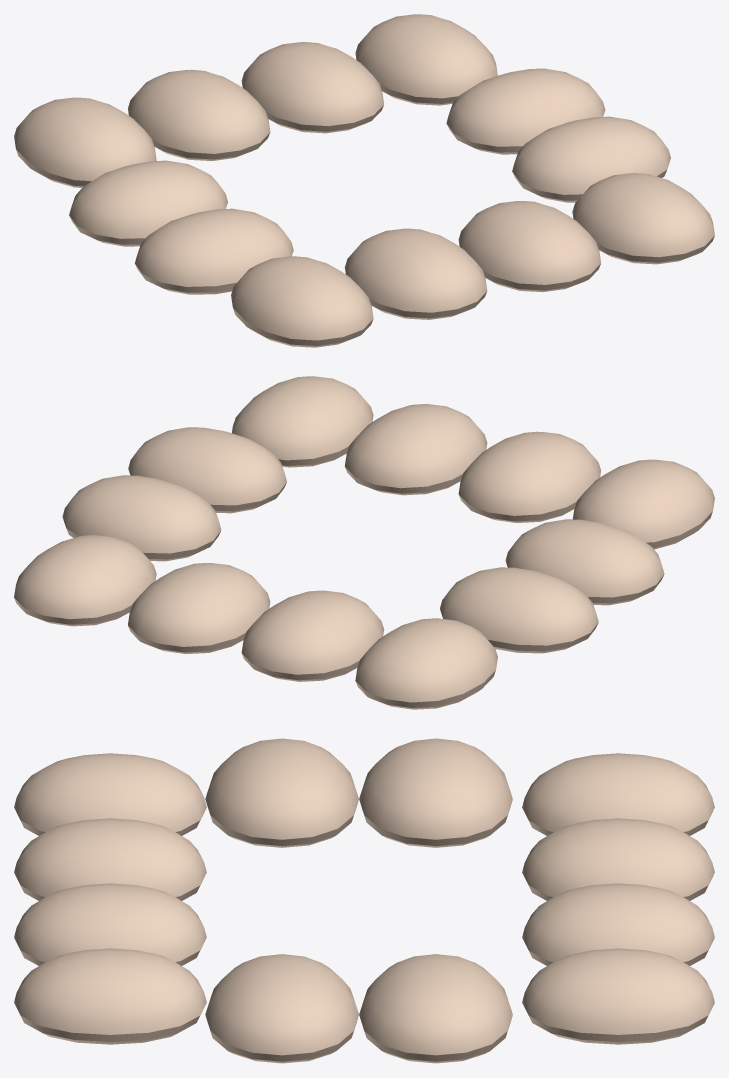
Rendered from CakeFillMeringue.glb.
3 renders of one model, top to bottom at view 1: azimuth 30°, elevation 25°; view 2: azimuth 150°, elevation 25°; view 3: azimuth 270°, elevation 25°, orthographic. The views are drawn at different scales.
Parts seen in each view (by area): view 1: Cube.038, Cube.037, Cube.039, Cube.040; view 2: Cube.037, Cube.038, Cube.039, Cube.040; view 3: Cube.037, Cube.038, Cube.040, Cube.039.
Boxes of the visible parts, bbox=[...] form: Cube.038: bbox=[231, 173, 714, 347]; Cube.037: bbox=[14, 14, 497, 187]; Cube.039: bbox=[69, 160, 293, 294]; Cube.040: bbox=[446, 68, 670, 202]; Cube.037: bbox=[14, 535, 497, 709]; Cube.038: bbox=[232, 376, 714, 549]; Cube.039: bbox=[440, 519, 664, 653]; Cube.040: bbox=[62, 427, 286, 561]; Cube.037: bbox=[522, 753, 714, 1044]; Cube.038: bbox=[14, 753, 206, 1044]; Cube.040: bbox=[205, 954, 512, 1063]; Cube.039: bbox=[205, 738, 512, 847].
Bounding box in the file's own units: 1.87 × 0.1982 × 1.87.
